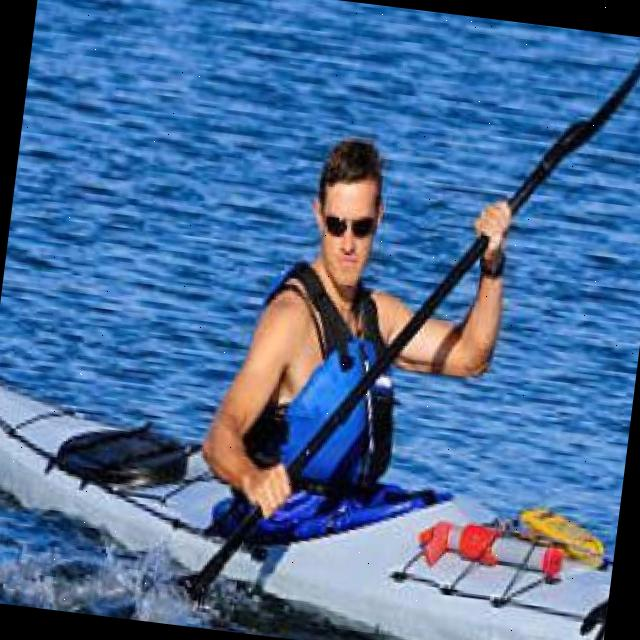kayak: (222, 494, 613, 640), (0, 384, 225, 566)
